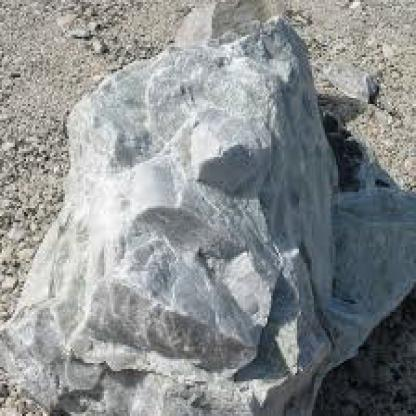Metamorphic_Marble: (2, 10, 332, 414)
